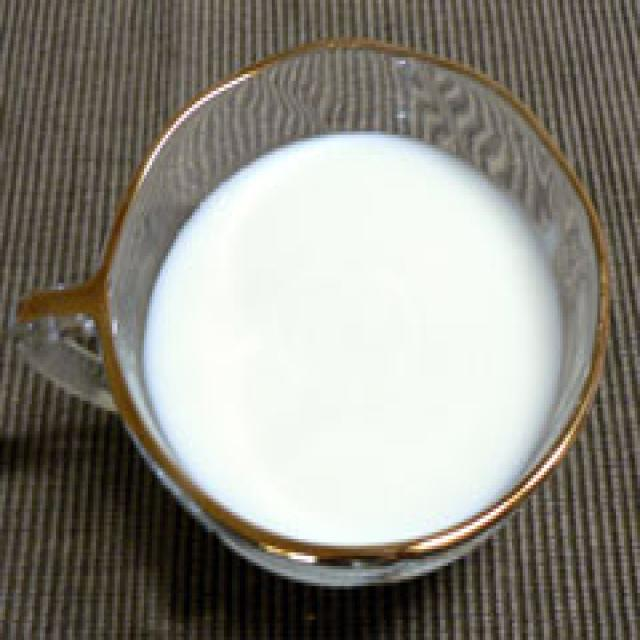汤锅炖物: (75, 23, 608, 600)
